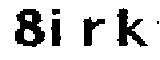8: (13, 5, 46, 50)
i: (48, 5, 66, 50)
k: (114, 4, 152, 51)
r: (79, 17, 107, 50)
